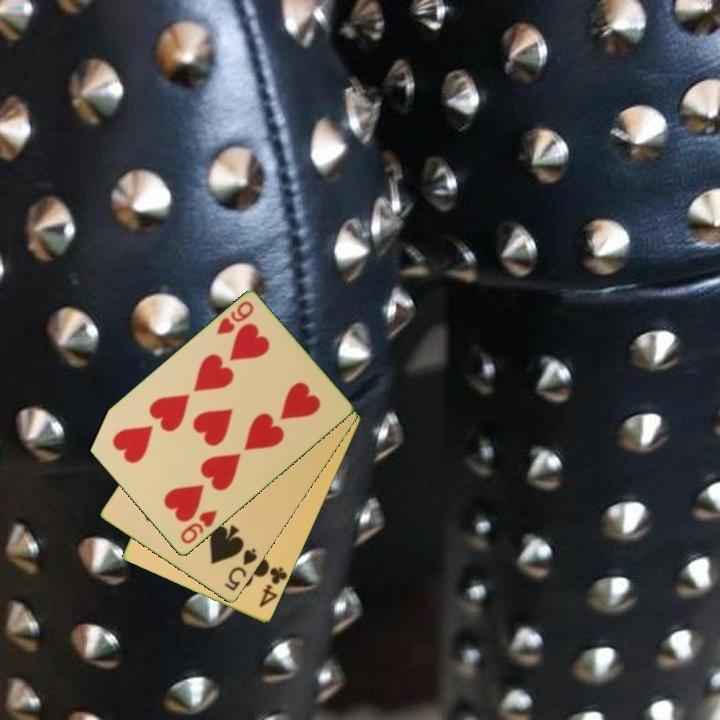4c: (256, 564, 290, 611)
5s: (221, 545, 260, 595)
9h: (212, 298, 257, 338), (177, 507, 220, 547)
